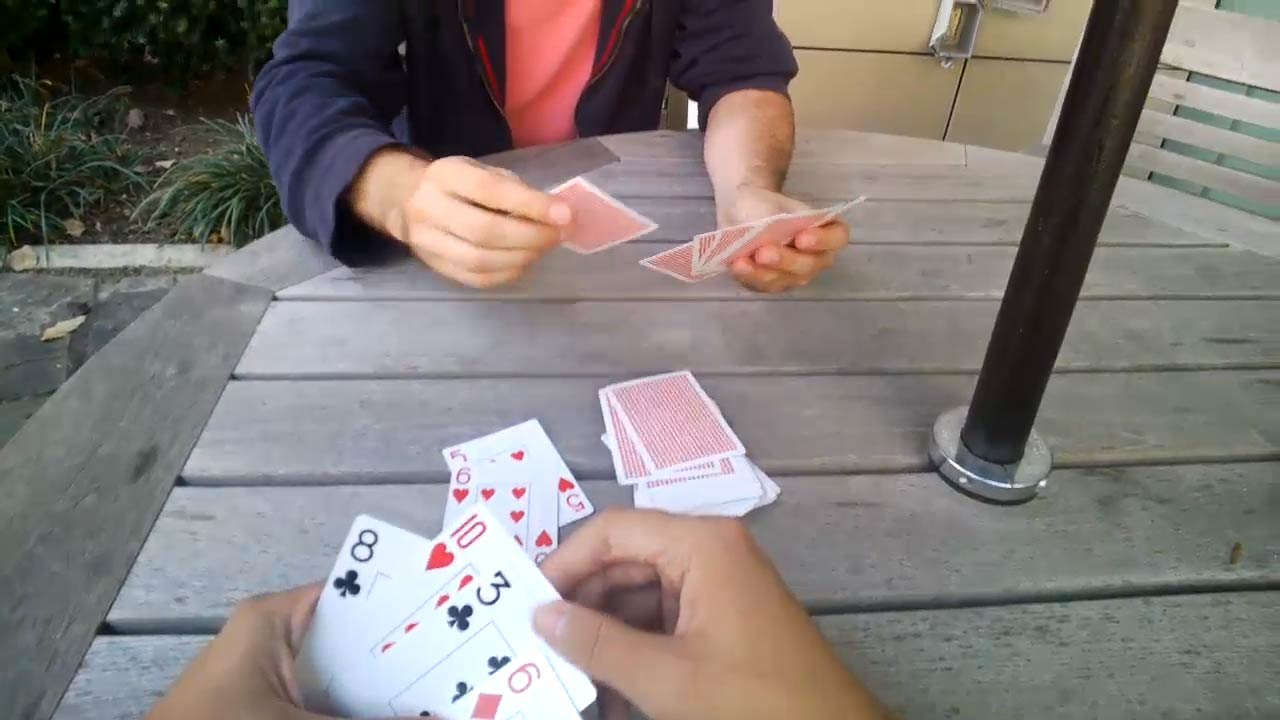hand: (542, 513, 880, 717), (149, 583, 336, 716), (397, 163, 567, 284), (716, 191, 846, 287)
